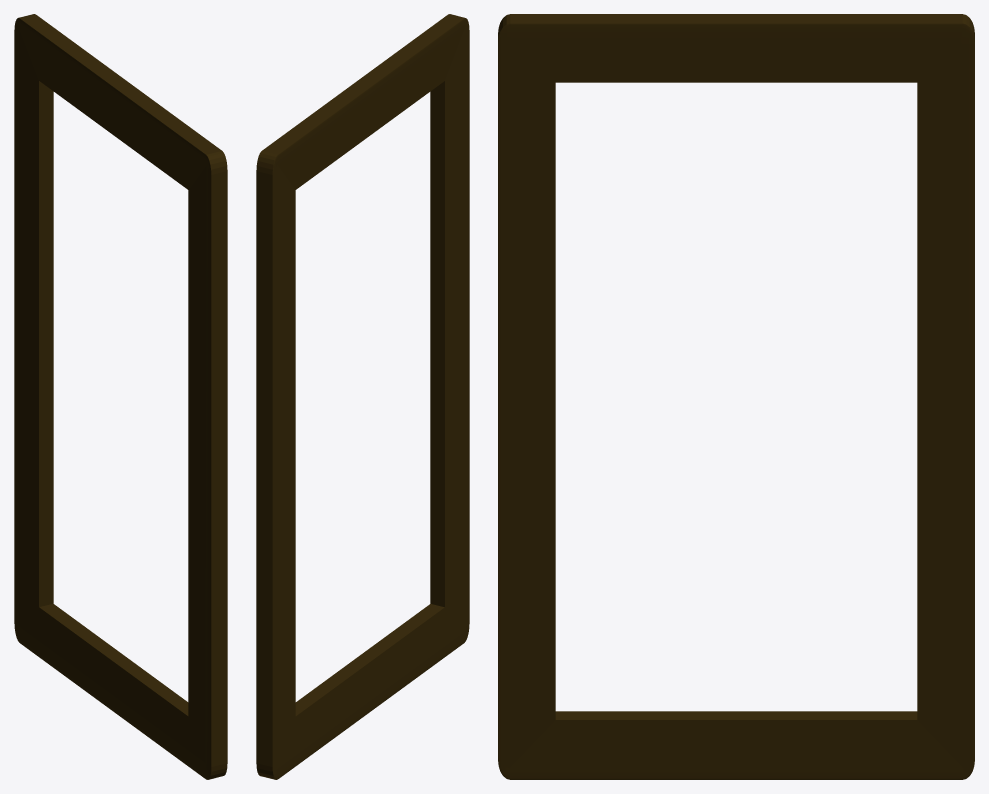
Rendered from WindowFrame.fbx.
3 renders of one model, left to right at view 1: azimuth 30°, elevation 25°; view 2: azimuth 150°, elevation 25°; view 3: azimuth 270°, elevation 25°, orthographic. The views are drawn at different scales.
Visible parts, largest first — view 1: WindowFrame; view 2: WindowFrame; view 3: WindowFrame.
Boxes of the visible parts, <box> form: WindowFrame: <box>14,14,227,779</box>; WindowFrame: <box>256,14,469,779</box>; WindowFrame: <box>498,14,974,779</box>.
Size of the model in its own units: 47.47 by 1662 by 949.
